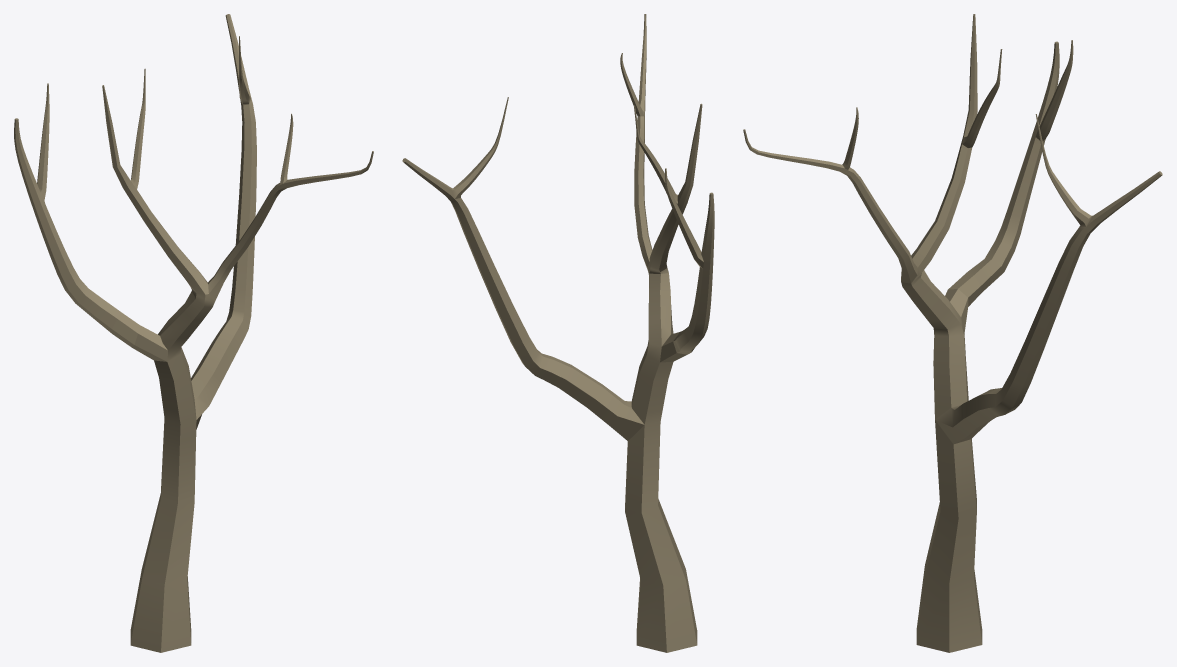
Rendered from dead large tree.fbx.
3 renders of one model, left to right at view 1: azimuth 30°, elevation 25°; view 2: azimuth 150°, elevation 25°; view 3: azimuth 270°, elevation 25°, orthographic. The views are drawn at different scales.
Visible parts, largest first — view 1: polySurface6; view 2: polySurface6; view 3: polySurface6.
Part boxes in pixels (x1=…): polySurface6: x1=14, y1=14, x2=373, y2=652; polySurface6: x1=402, y1=14, x2=714, y2=652; polySurface6: x1=743, y1=14, x2=1162, y2=652.
Size of the model in its own units: 168 by 339 by 215.
